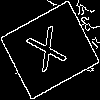X: (25, 25, 74, 82)
